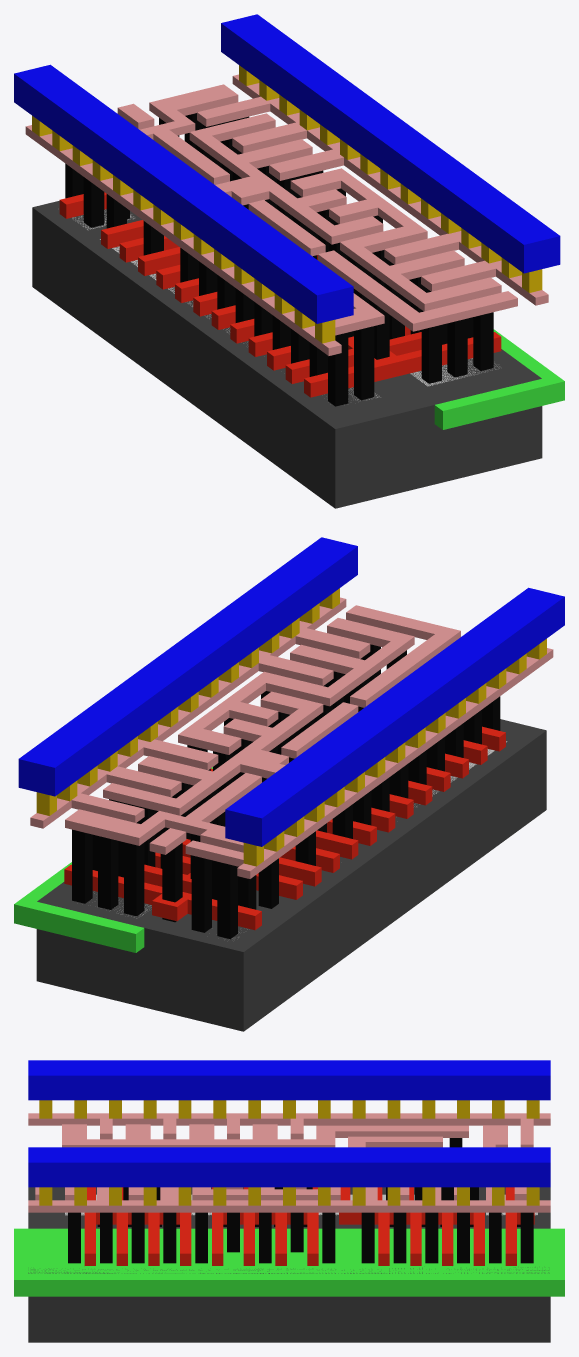
Rendered from sky130_fd_sc_hd__o21bai_4.obj.
The picture shows the model from 3 angles, top to bottom: view 1: azimuth 30°, elevation 25°; view 2: azimuth 150°, elevation 25°; view 3: azimuth 270°, elevation 25°; orthographic projection. The views are drawn at different scales.
Parts seen in each view (by area): view 1: subs, metal1, li, licon, poly, mcon, nwell; view 2: subs, metal1, li, licon, poly, mcon, nwell; view 3: metal1, subs, nwell, li, licon, poly, mcon.
Boxes of the visible parts, x1=… form: subs: x1=32, y1=200, x2=542, y2=508; metal1: x1=14, y1=14, x2=560, y2=323; li: x1=25, y1=74, x2=548, y2=355; licon: x1=65, y1=113, x2=493, y2=406; poly: x1=59, y1=192, x2=501, y2=397; mcon: x1=32, y1=65, x2=542, y2=343; nwell: x1=434, y1=329, x2=564, y2=429; subs: x1=36, y1=719, x2=546, y2=1031; metal1: x1=18, y1=537, x2=564, y2=846; li: x1=30, y1=597, x2=553, y2=878; licon: x1=72, y1=644, x2=500, y2=939; poly: x1=64, y1=726, x2=505, y2=930; mcon: x1=36, y1=588, x2=546, y2=866; nwell: x1=14, y1=767, x2=212, y2=952; metal1: x1=28, y1=1060, x2=550, y2=1187; subs: x1=28, y1=1187, x2=550, y2=1342; nwell: x1=14, y1=1228, x2=564, y2=1296; li: x1=28, y1=1113, x2=550, y2=1212; licon: x1=68, y1=1138, x2=533, y2=1263; poly: x1=84, y1=1187, x2=534, y2=1265; mcon: x1=39, y1=1100, x2=539, y2=1205.
Bounding box in the file's own units: 3.2 × 2.74 × 7.28.
